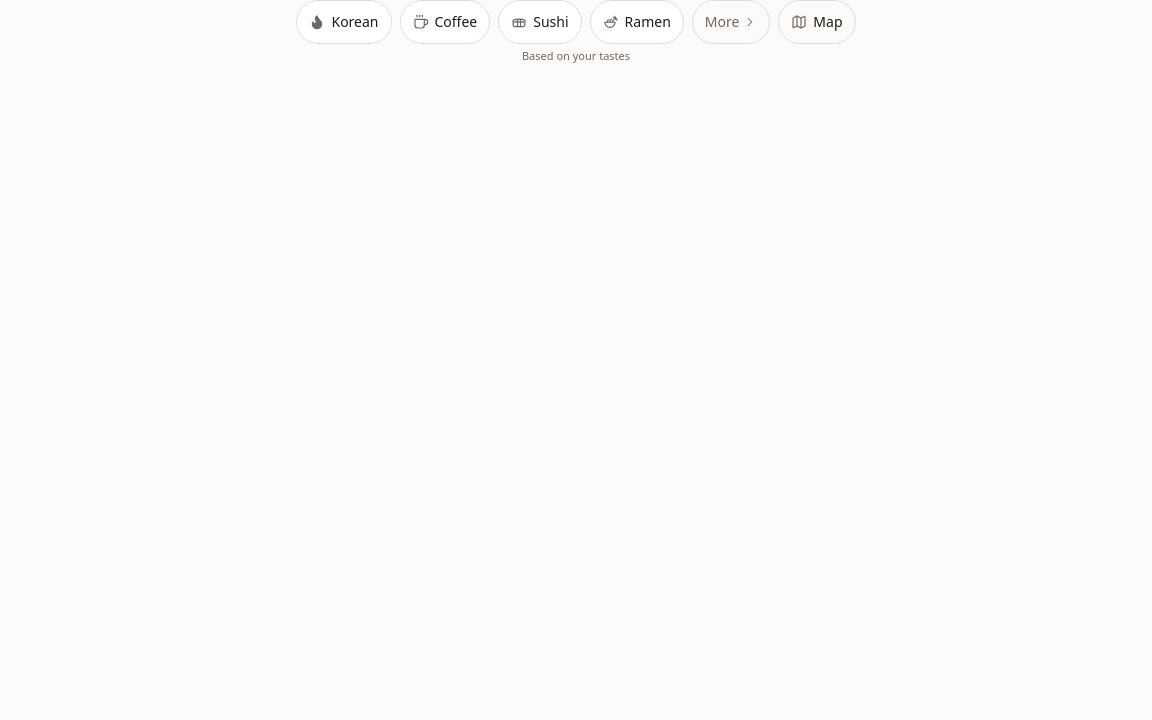
Test: browsing outside your own tastes › keeps everything else one tap away
This screenshot has width=1152, height=720.
Click the button "More" at (731, 22), box [692, 0, 770, 44]
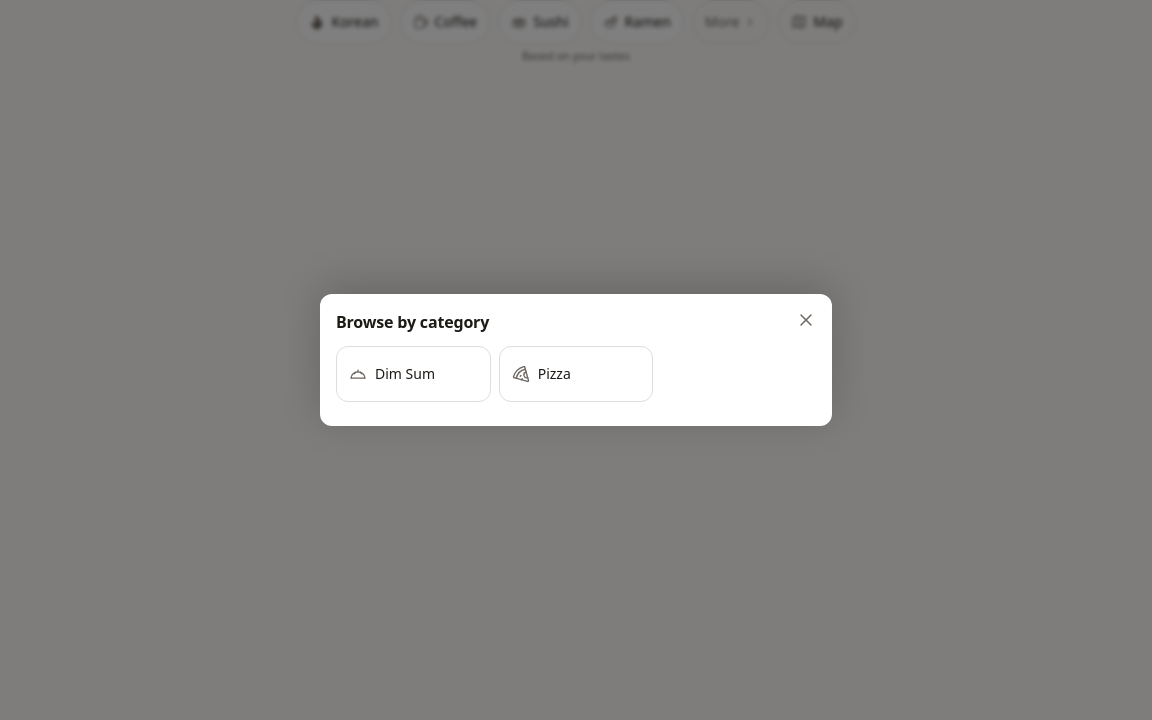
Expected: the link "Pizza" is shown, [499, 346, 653, 402]
